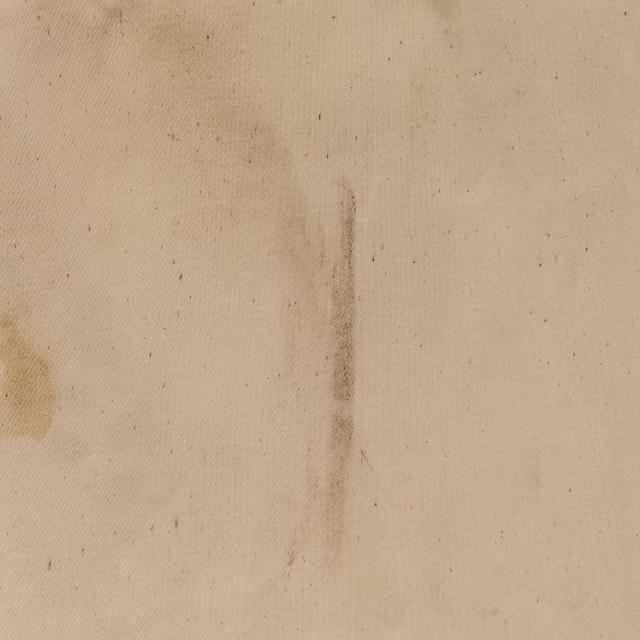taaaches: (276, 144, 388, 605), (0, 261, 72, 477)
